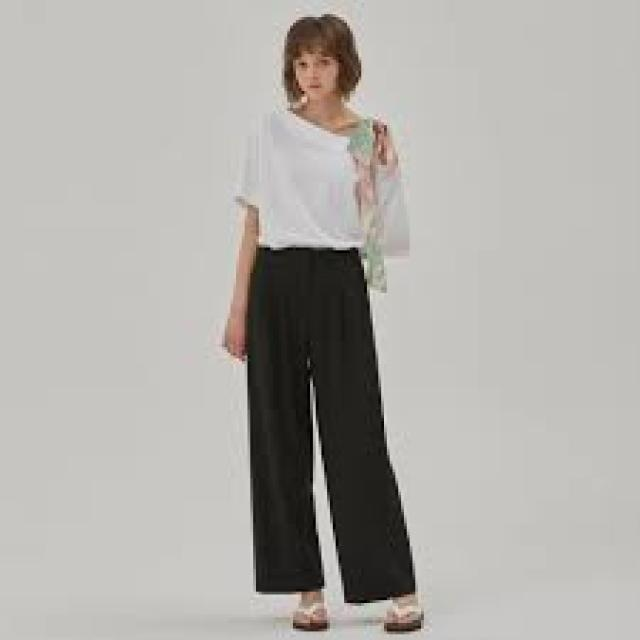pants: (239, 243, 420, 603)
